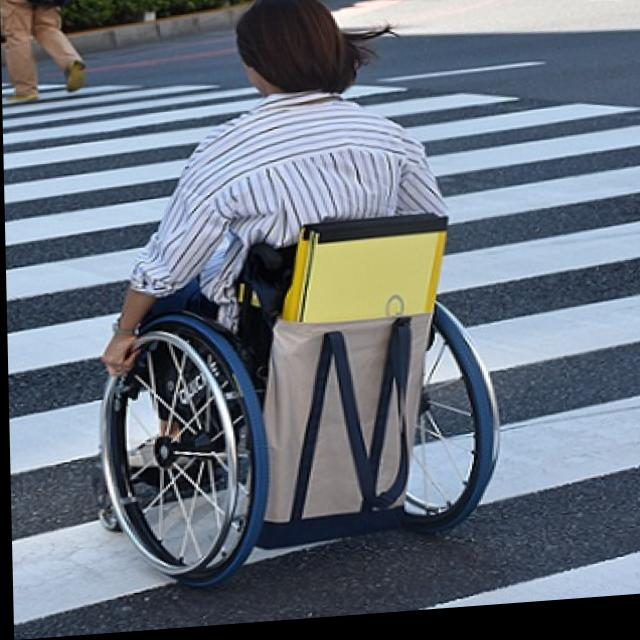wheelchair: (87, 0, 504, 588)
